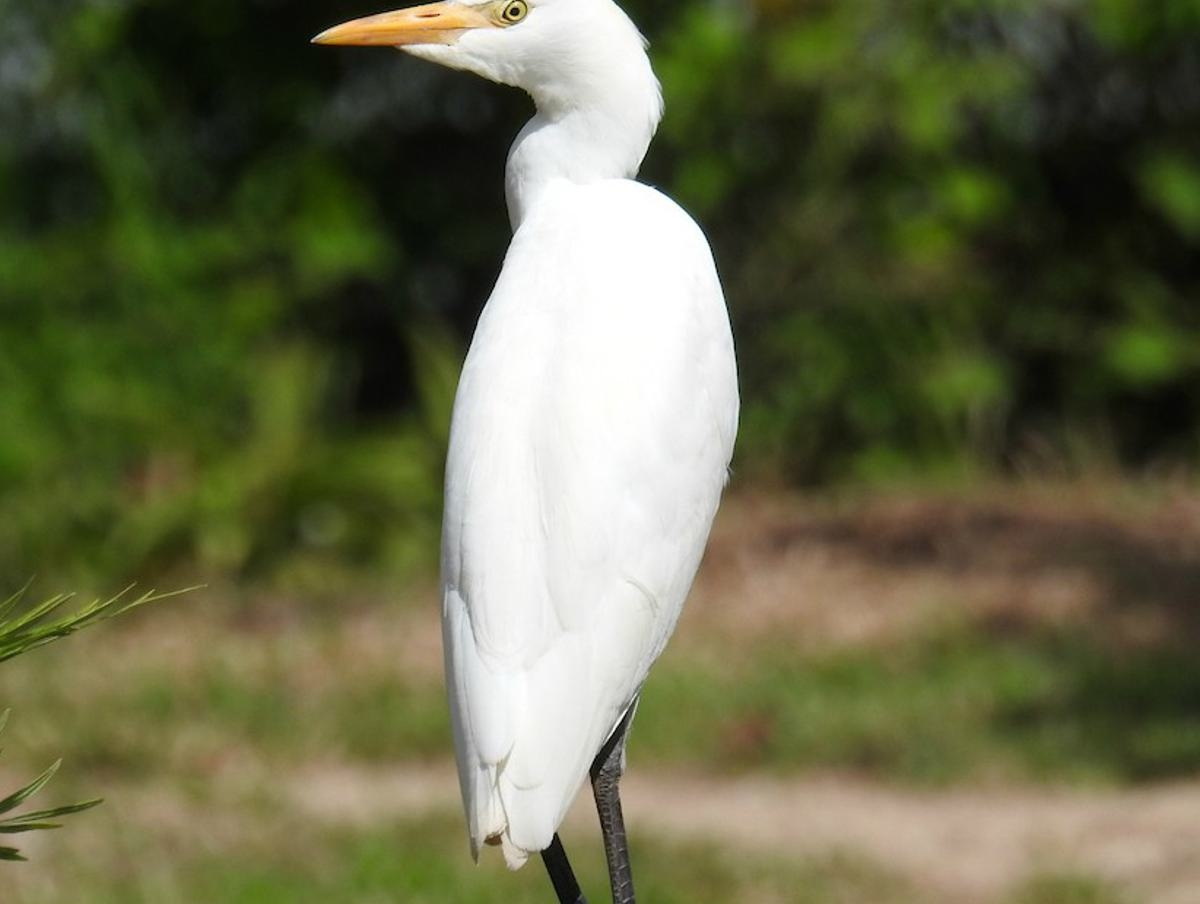egret: (300, 1, 758, 904)
